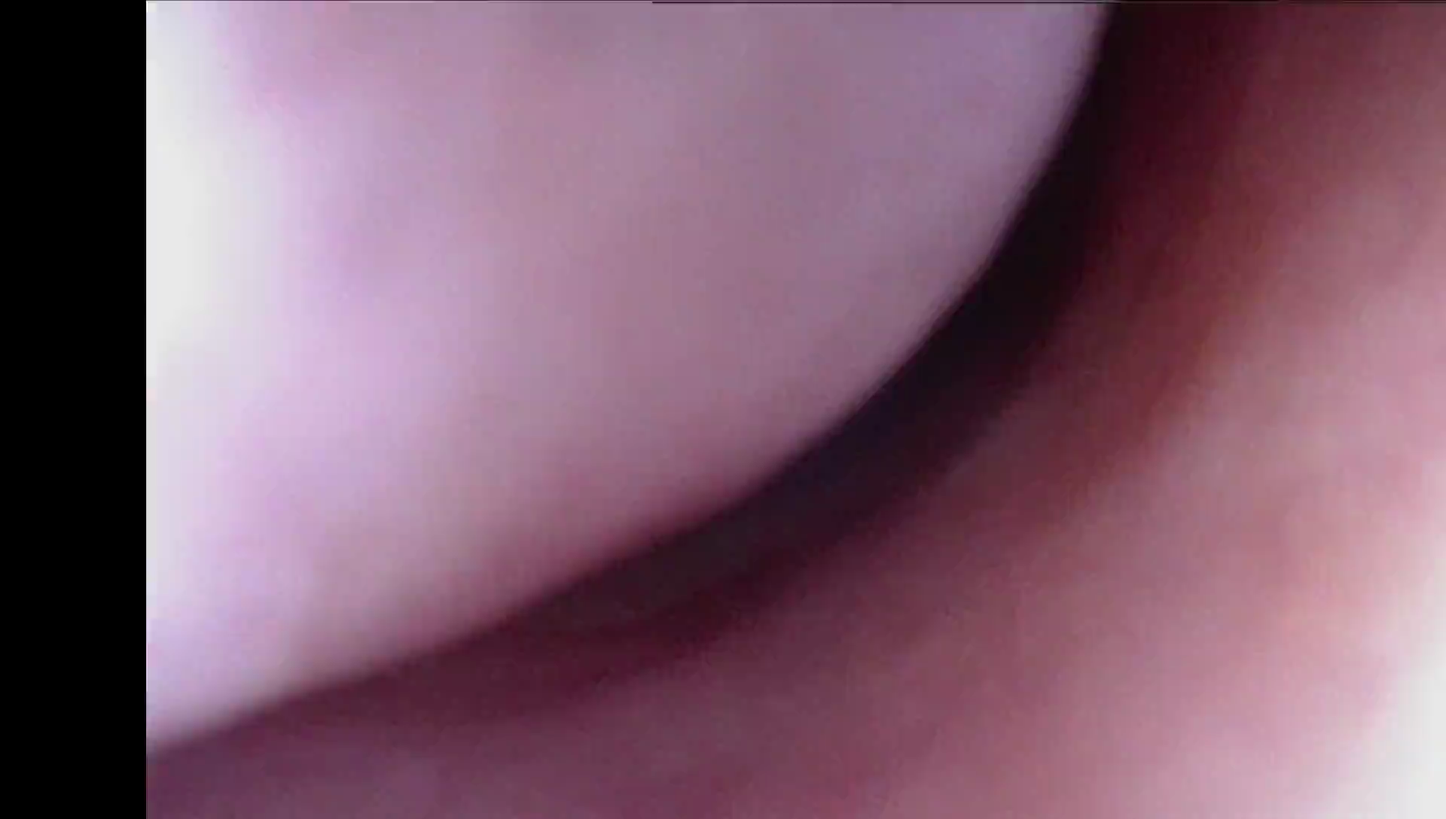close_wall: (151, 7, 672, 706), (1060, 440, 1446, 819)
next: (783, 0, 1166, 510)
